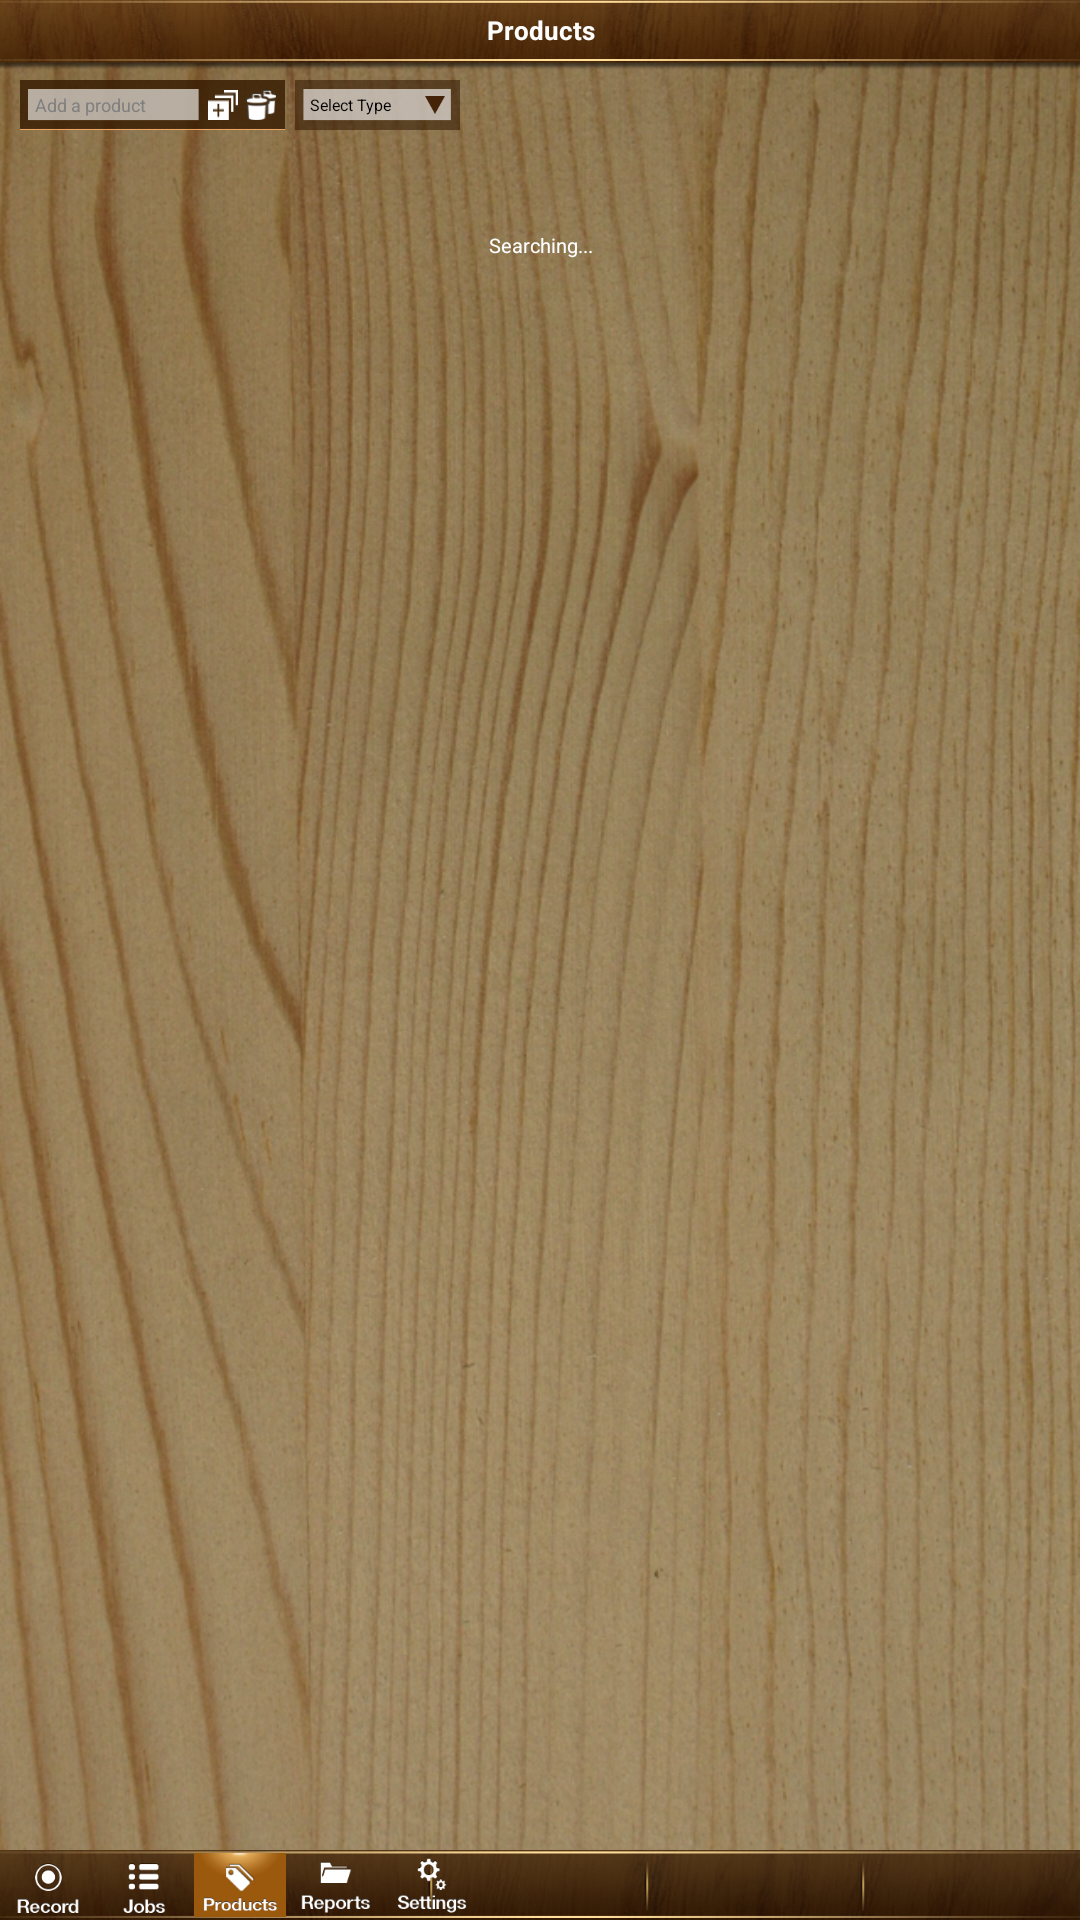

Named icons in this screenshot (1080*1920) and their bounding boxes, (x1, y1, x2, y2):
job add: (208, 90, 238, 120)
job delete: (246, 90, 276, 120)
